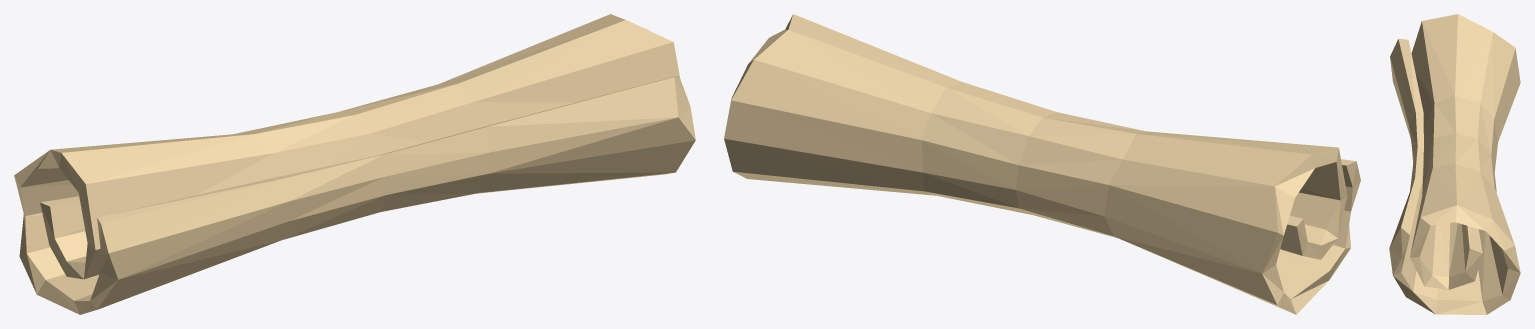
The model's file is SFHW_Scroll_004.fbx.
3 views of the same model, side by side, from view 1: azimuth 30°, elevation 25°; view 2: azimuth 150°, elevation 25°; view 3: azimuth 270°, elevation 25° (orthographic). The views are drawn at different scales.
Parts seen in each view (by area): view 1: SFHW_Scroll_004; view 2: SFHW_Scroll_004; view 3: SFHW_Scroll_004.
Boxes of the visible parts, box(x1,y1,x2,y2) form: SFHW_Scroll_004: box(14, 14, 695, 314); SFHW_Scroll_004: box(724, 14, 1360, 314); SFHW_Scroll_004: box(1389, 14, 1520, 314).
Bounding box in the file's own units: 57.83 × 14.49 × 16.16.
